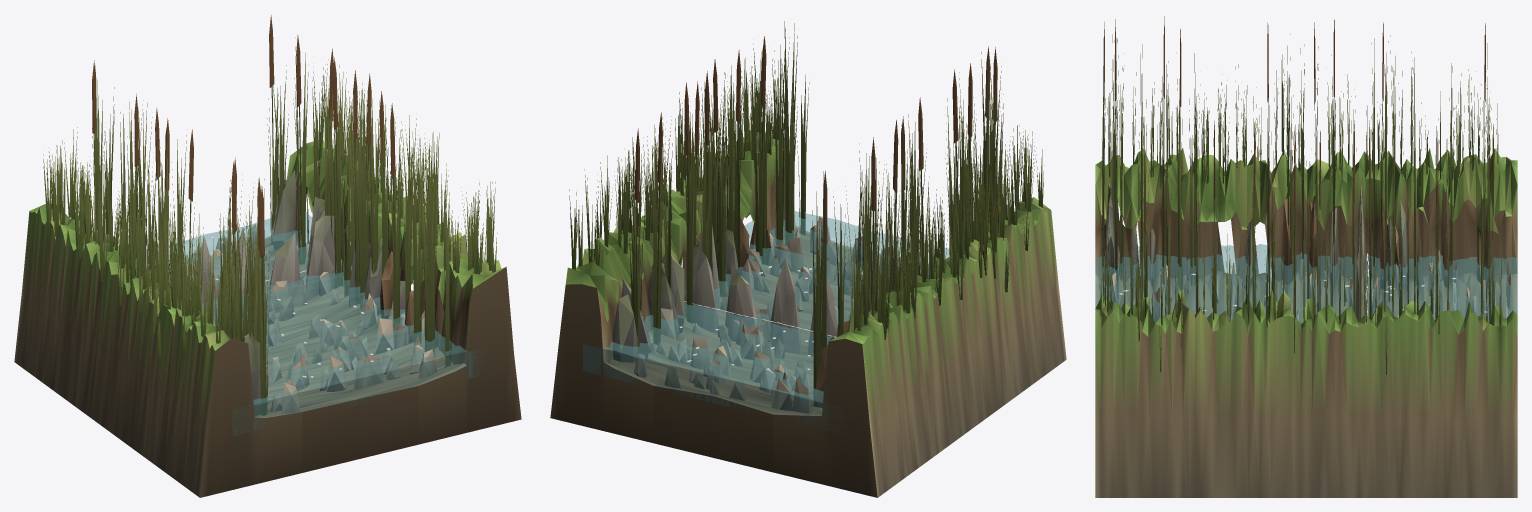
The model's file is stream.glb.
The picture shows the model from 3 angles, left to right: view 1: azimuth 30°, elevation 25°; view 2: azimuth 150°, elevation 25°; view 3: azimuth 270°, elevation 25°; orthographic projection. The views are drawn at different scales.
Parts seen in each view (by area): view 1: stream, stream-translucent; view 2: stream, stream-translucent; view 3: stream, stream-translucent.
Boxes of the visible parts, x1,y1,x2,y2 form: stream: [14, 15, 521, 497]; stream-translucent: [146, 211, 482, 435]; stream: [550, 21, 1066, 497]; stream-translucent: [583, 211, 949, 432]; stream: [1095, 16, 1517, 497]; stream-translucent: [1095, 244, 1517, 323].
Size of the model in its own units: 1 by 0.8927 by 1.
